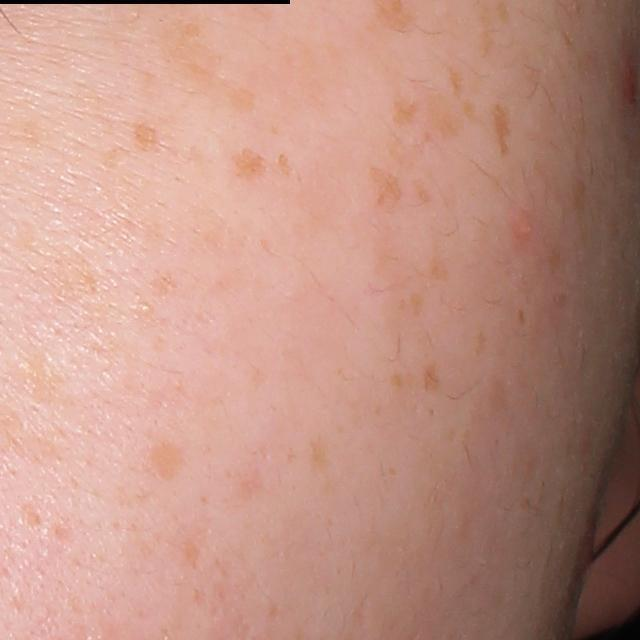melasma: (148, 10, 260, 108), (6, 347, 75, 407), (374, 234, 433, 304), (413, 76, 471, 138), (446, 60, 483, 125), (365, 166, 403, 212), (219, 143, 263, 179), (307, 437, 335, 493), (384, 98, 422, 134), (489, 100, 512, 159), (476, 5, 501, 55), (155, 440, 188, 476), (131, 123, 165, 156), (149, 264, 183, 296), (417, 360, 442, 394)
papule: (513, 206, 542, 244)
